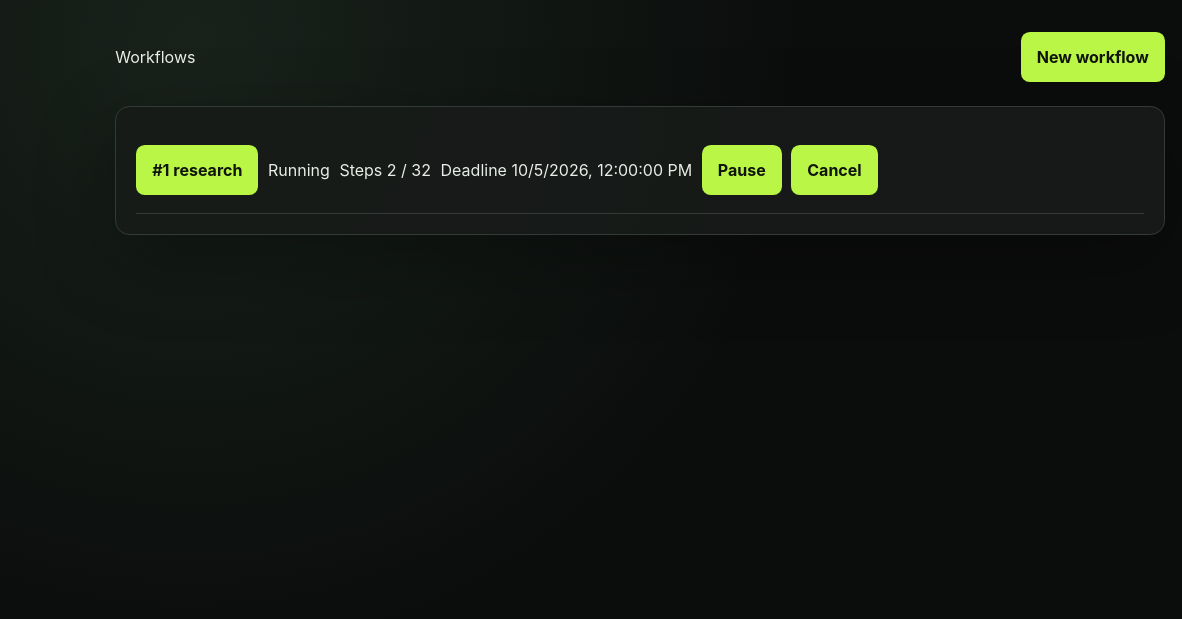
WorkflowsPage › shows a checkpoint's shape without showing its contents
What coordinates should you click on to do the following:
click the button "#1 research"
I would click on:
 (197, 170)
Its box is [136,145,258,195].
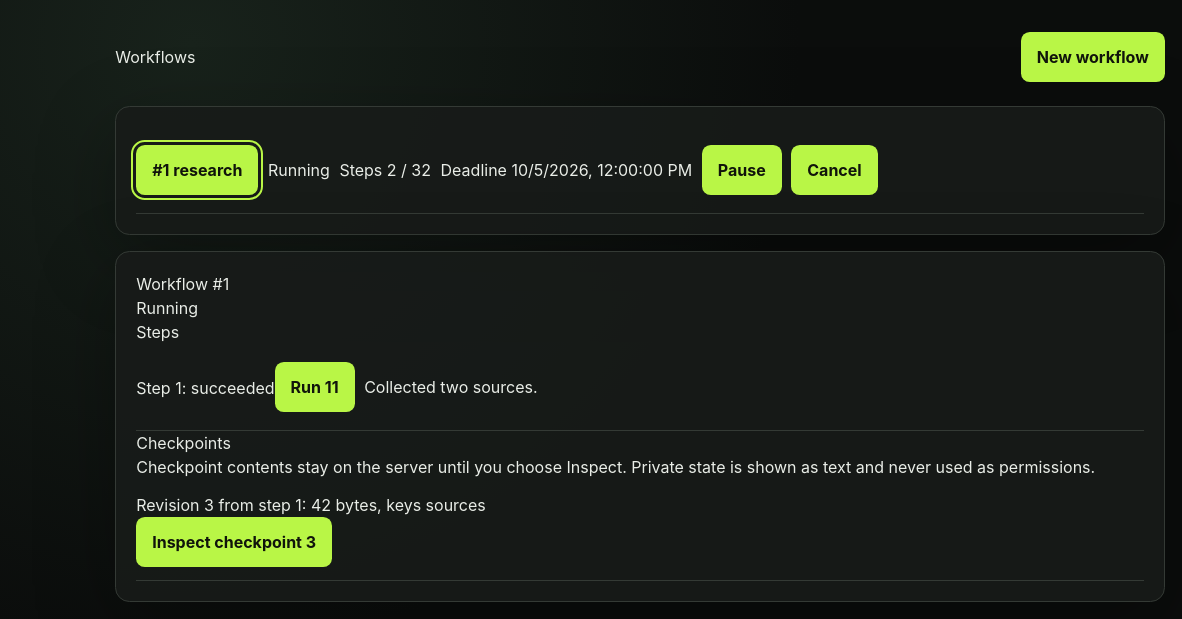
Expected: the list item "Revision 3 from step 1: 42 bytes, keys sources" is shown, [136,479,1144,581]
Expected: the text "Checkpoint contents stay on the server" is shown, [136,457,1095,477]
